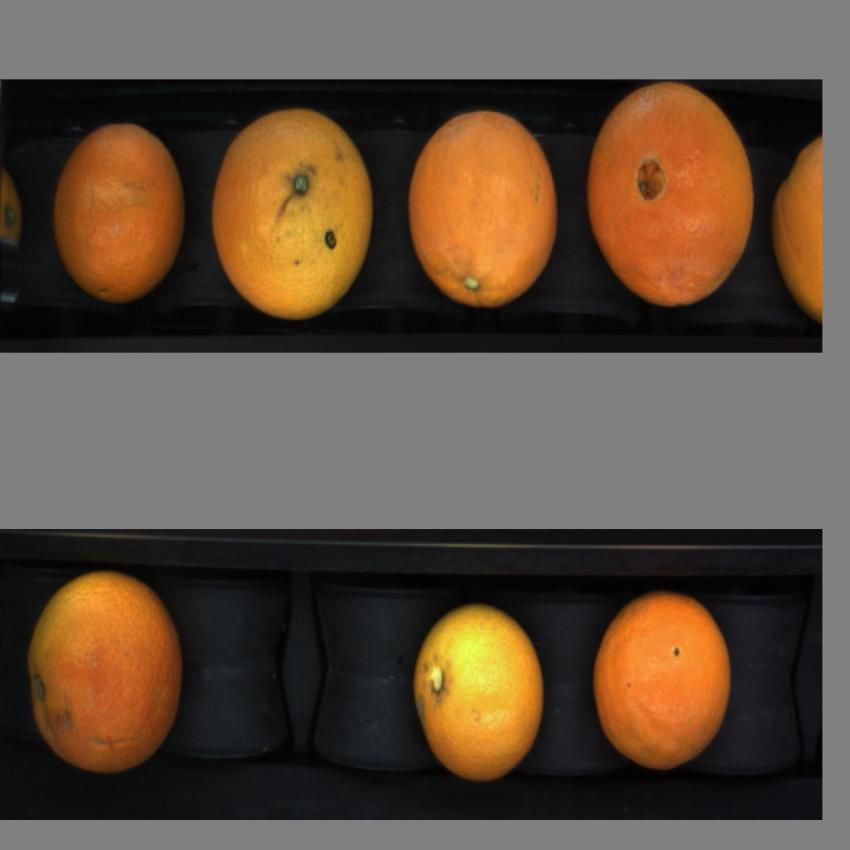Buen estado: (584, 82, 760, 324), (202, 101, 383, 326), (20, 567, 199, 786), (402, 96, 567, 320), (43, 111, 195, 332), (400, 582, 557, 791), (586, 587, 747, 782), (767, 128, 824, 332)
